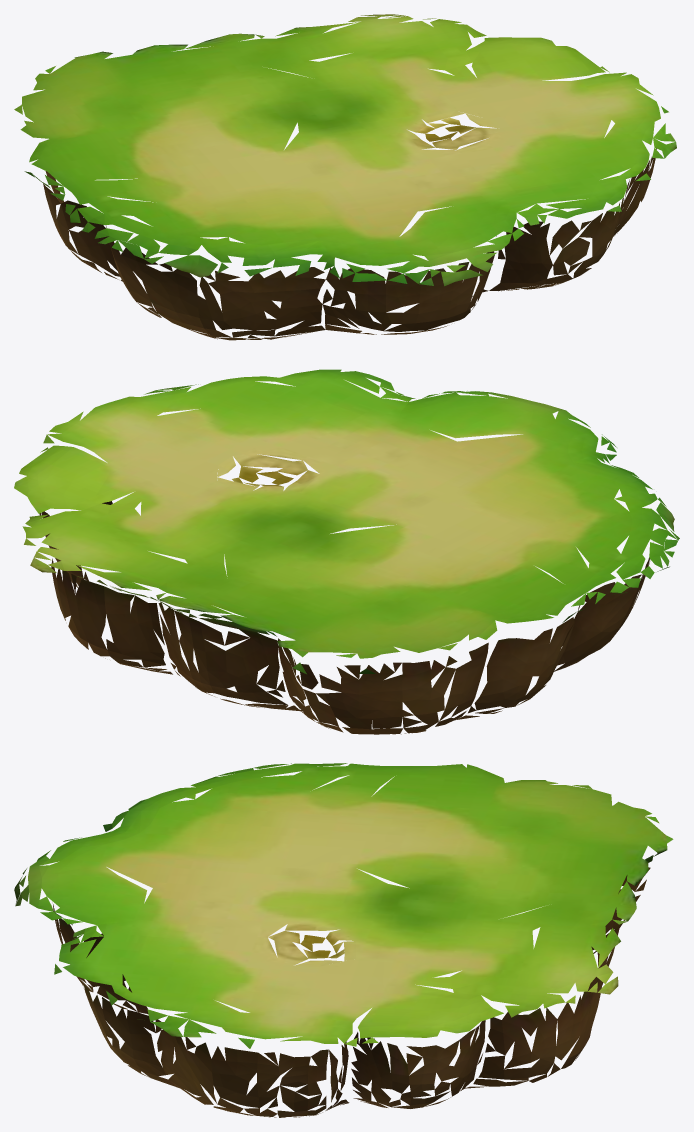
Rendered from space_grassy.glb.
3 renders of one model, top to bottom at view 1: azimuth 30°, elevation 25°; view 2: azimuth 150°, elevation 25°; view 3: azimuth 270°, elevation 25°, orthographic. The views are drawn at different scales.
Visible parts, largest first — view 1: world.001; view 2: world.001; view 3: world.001.
Part boxes in pixels (x1,y1,x2,y2): world.001: (14,14,676,340); world.001: (14,369,679,734); world.001: (14,763,673,1117).
Bounding box in the file's own units: 0.9863 × 0.2048 × 0.95.
Materials: 1 (1 with a texture image).
